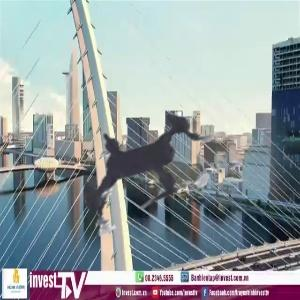drone: (30, 48, 262, 280)
